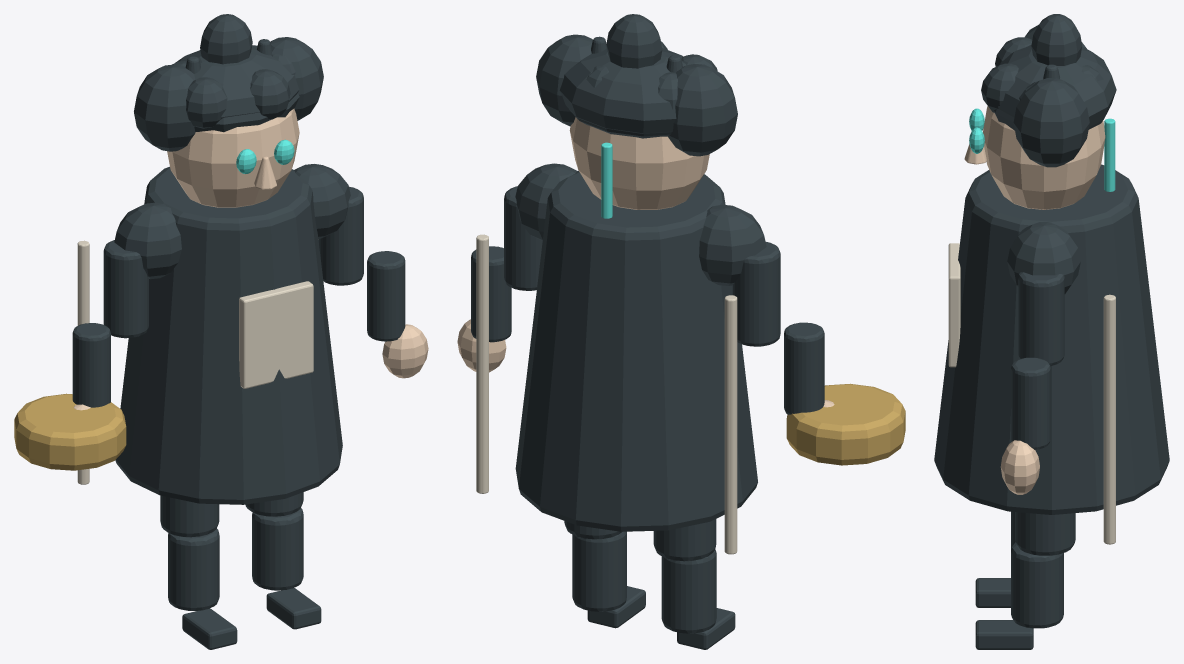
File: Elian_Thread.fbx
3 renders of one model, left to right at view 1: azimuth 30°, elevation 25°; view 2: azimuth 150°, elevation 25°; view 3: azimuth 270°, elevation 25°, orthographic. The views are drawn at different scales.
Visible parts, largest first — view 1: Coat, HeadMesh, MoltSpool, CivicApron, Hair_2_Puff_R, RightArm, LeftShin, RightShin, RightShoulderPad, LeftForearm, RightForearm, Hair_1_Crown (+13 smaller); view 2: Coat, HeadMesh, MoltSpool, Hair_1_Crown, Hair_2_Puff_R, RightArm, RightShin, LeftShin, RightShoulderPad, SurgicalFrame_-1, RightForearm, SurgicalFrame_1 (+10 smaller); view 3: Coat, HeadMesh, Hair_2_Puff_L, LeftArm, LeftShin, Hair_1_Crown, LeftForearm, LeftShoulderPad, SurgicalFrame_1, LeftThigh, Hair_1_Knot, LeftHandMesh (+6 smaller).
Boxes of the visible parts, x1,y1,x2,y2 form: Coat: (115, 166, 342, 504); HeadMesh: (167, 108, 299, 207); MoltSpool: (14, 393, 126, 470); CivicApron: (239, 281, 313, 388); Hair_2_Puff_R: (134, 64, 195, 151); RightArm: (103, 240, 148, 338); LeftShin: (252, 508, 303, 590); RightShin: (168, 528, 219, 610); RightShoulderPad: (114, 202, 181, 279); LeftForearm: (367, 251, 405, 341); RightForearm: (72, 323, 110, 407); Hair_1_Crown: (175, 45, 299, 119); Coat: (515, 171, 757, 531); HeadMesh: (569, 117, 709, 209); MoltSpool: (786, 383, 905, 465); Hair_1_Crown: (559, 48, 686, 133); Hair_2_Puff_R: (667, 64, 737, 156); RightArm: (732, 242, 780, 346); RightShin: (661, 549, 716, 633); LeftShin: (572, 531, 626, 611); RightShoulderPad: (699, 204, 766, 285); SurgicalFrame_-1: (724, 295, 737, 554); RightForearm: (784, 322, 824, 414); SurgicalFrame_1: (476, 234, 488, 493); Coat: (934, 164, 1169, 514); HeadMesh: (983, 106, 1105, 209); Hair_2_Puff_L: (1013, 78, 1089, 167); LeftArm: (1018, 272, 1064, 366); LeftShin: (1011, 542, 1063, 628); Hair_1_Crown: (998, 44, 1116, 127); LeftForearm: (1011, 357, 1050, 449); LeftShoulderPad: (1007, 222, 1080, 293); SurgicalFrame_1: (1103, 294, 1115, 544); LeftThigh: (1015, 512, 1075, 555); Hair_1_Knot: (1031, 14, 1082, 65); LeftHandMesh: (1000, 440, 1039, 494).
Size of the model in its own units: 1.84 by 2.57 by 0.9032.
